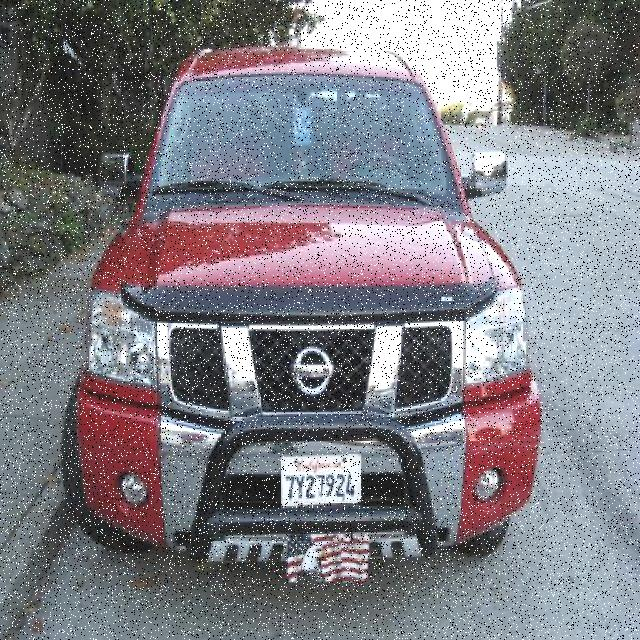license_plate: (280, 454, 362, 508)
